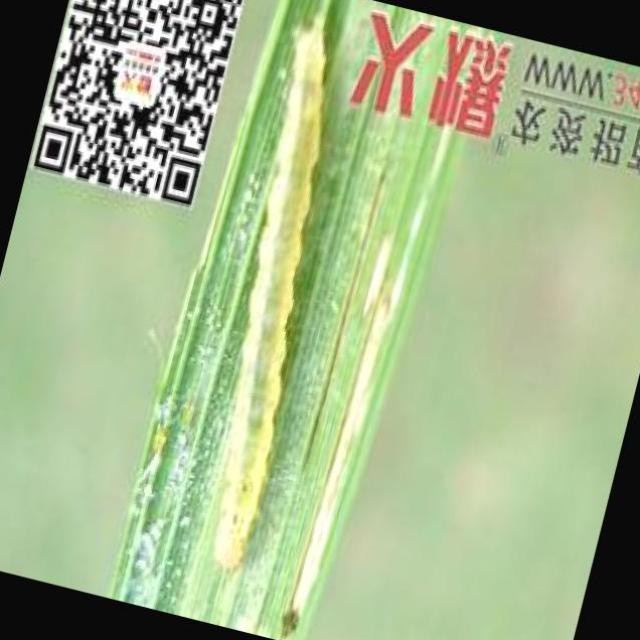leaf folder: (214, 19, 325, 572)
